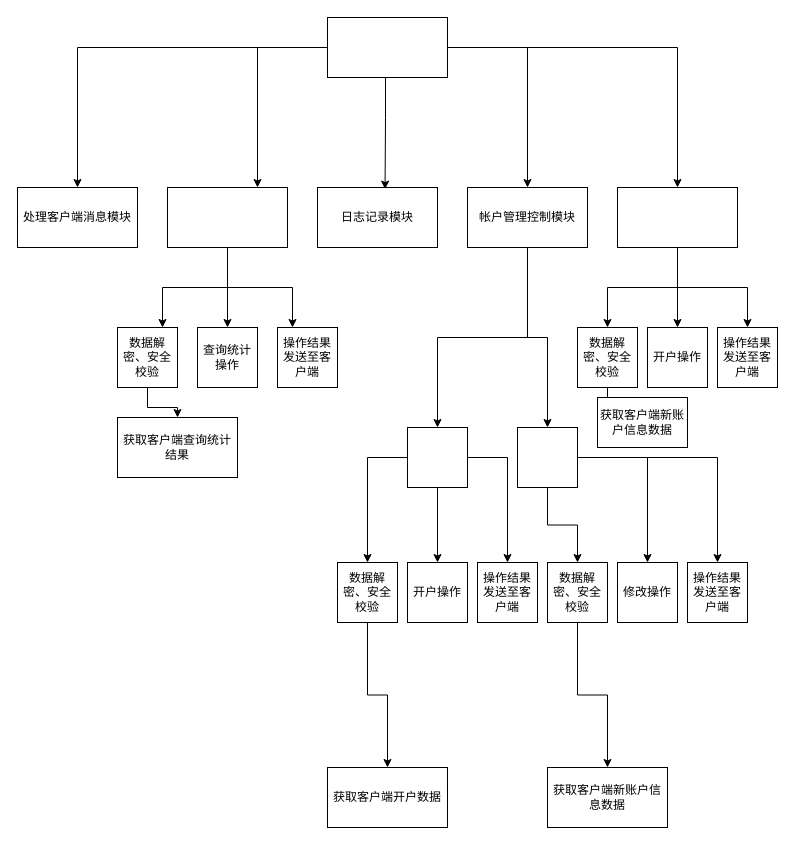
The diagram is 795 pixels wide and 845 high, and some of its shapes have lost their labels. The box of each missing label's shape, as (x1, y1, x2, y2) in pixels:
攒局控制模块: (616, 186, 738, 248)
服务端中心控制模块: (326, 16, 448, 78)
查询统计模块: (166, 186, 288, 248)
账户信息修改控制模块: (516, 426, 578, 488)
账户开户控制模块: (406, 426, 468, 488)
